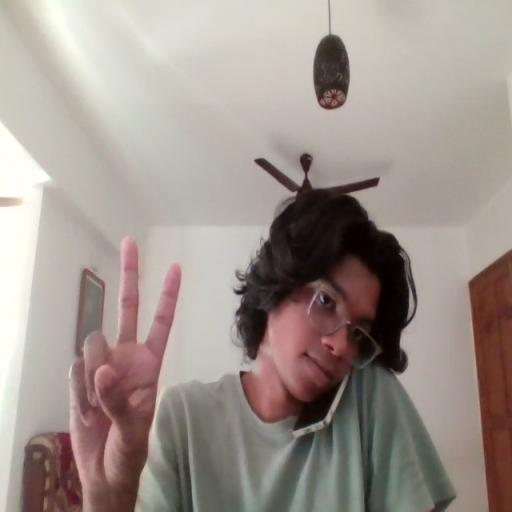scissor: (68, 235, 183, 492)
